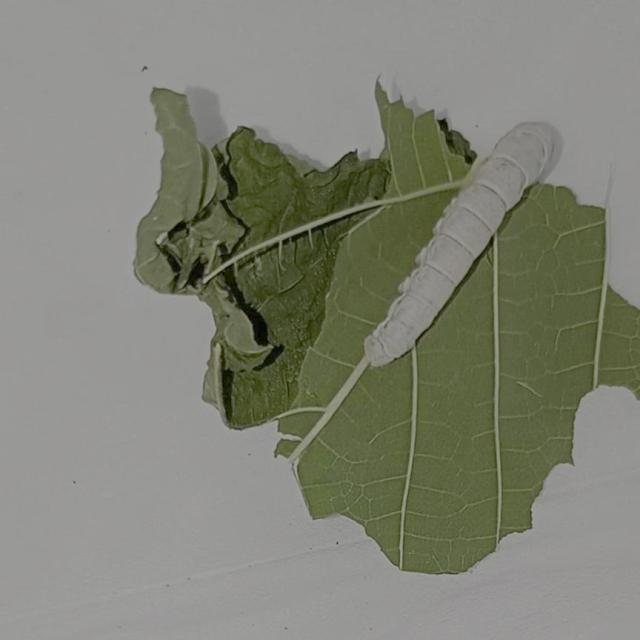Healthy: (347, 106, 585, 380)
